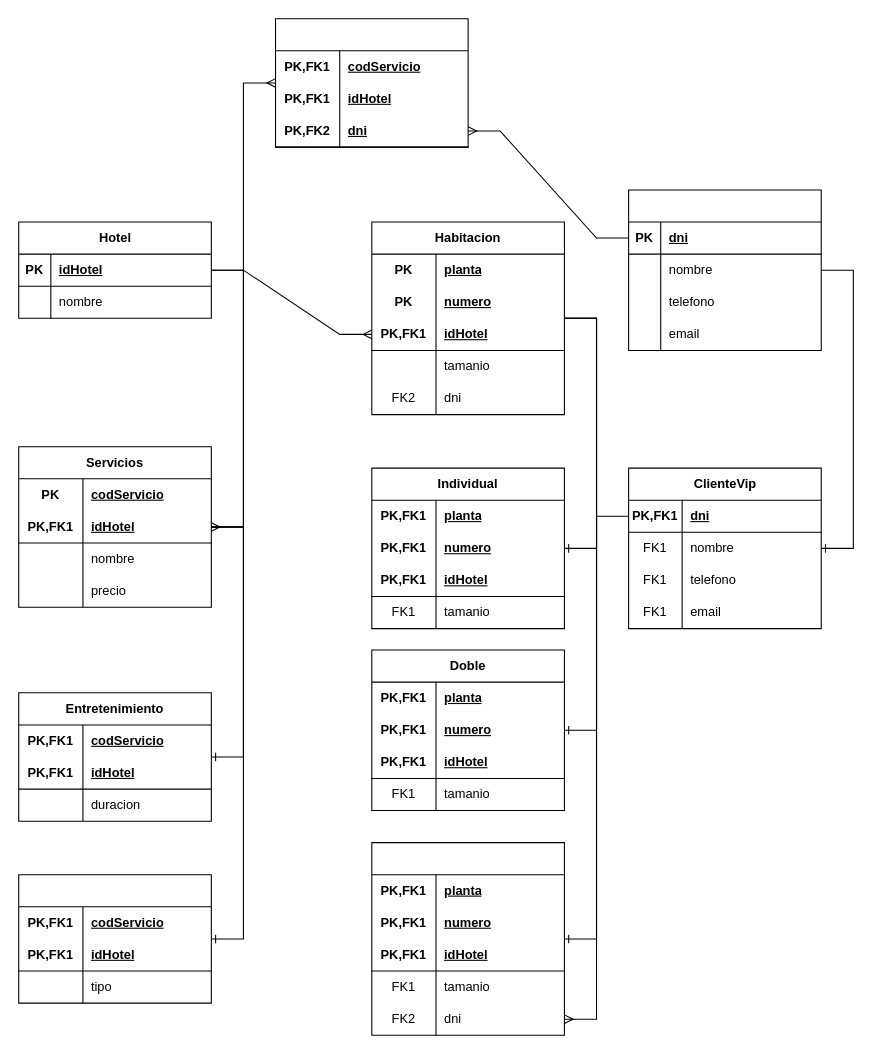
The diagram is 881 pixels wide and 1054 high, and some of its shapes have lost their labels. Each missing label, with the box of its shape:
Cliente: (628, 189, 821, 350)
Comida: (18, 874, 211, 1003)
Suite: (371, 842, 564, 1035)
Utiliza: (274, 18, 468, 147)
